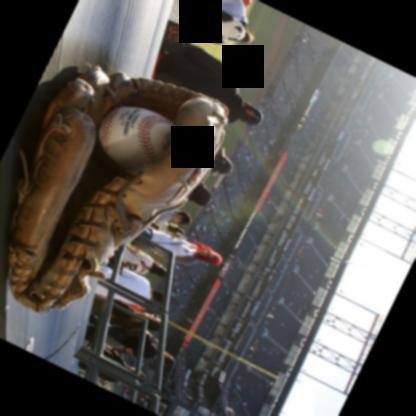backpack: (183, 2, 254, 43), (120, 326, 157, 344)
handbag: (129, 239, 149, 249)
